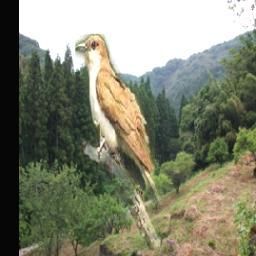Cuckoo: (74, 35, 180, 252)
